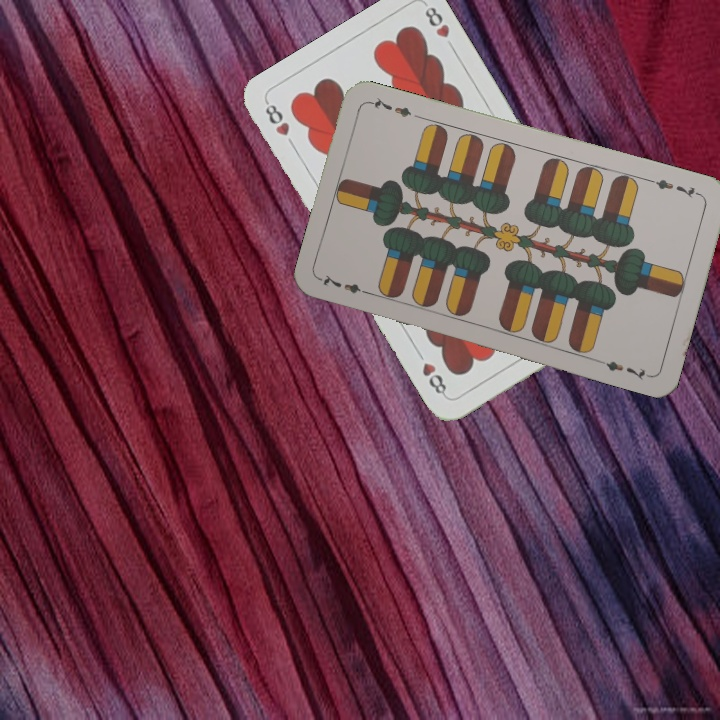E7: (317, 270, 375, 298), (646, 175, 704, 200)
H8: (261, 98, 292, 139)
